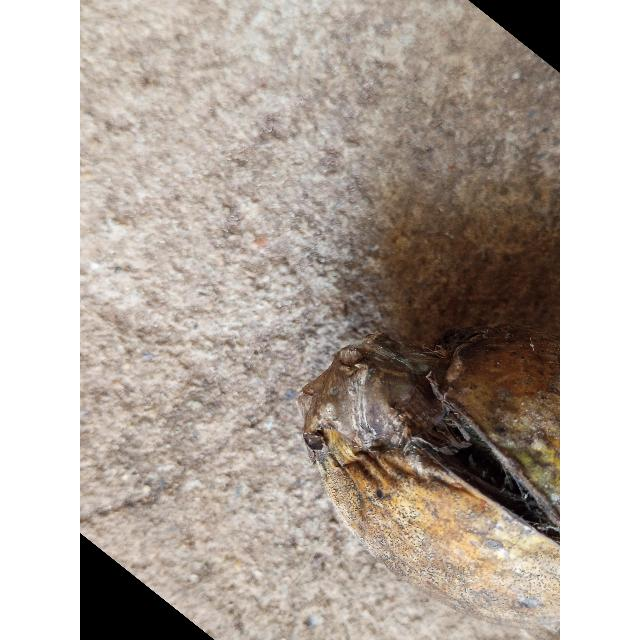damaged: (299, 324, 560, 627)
